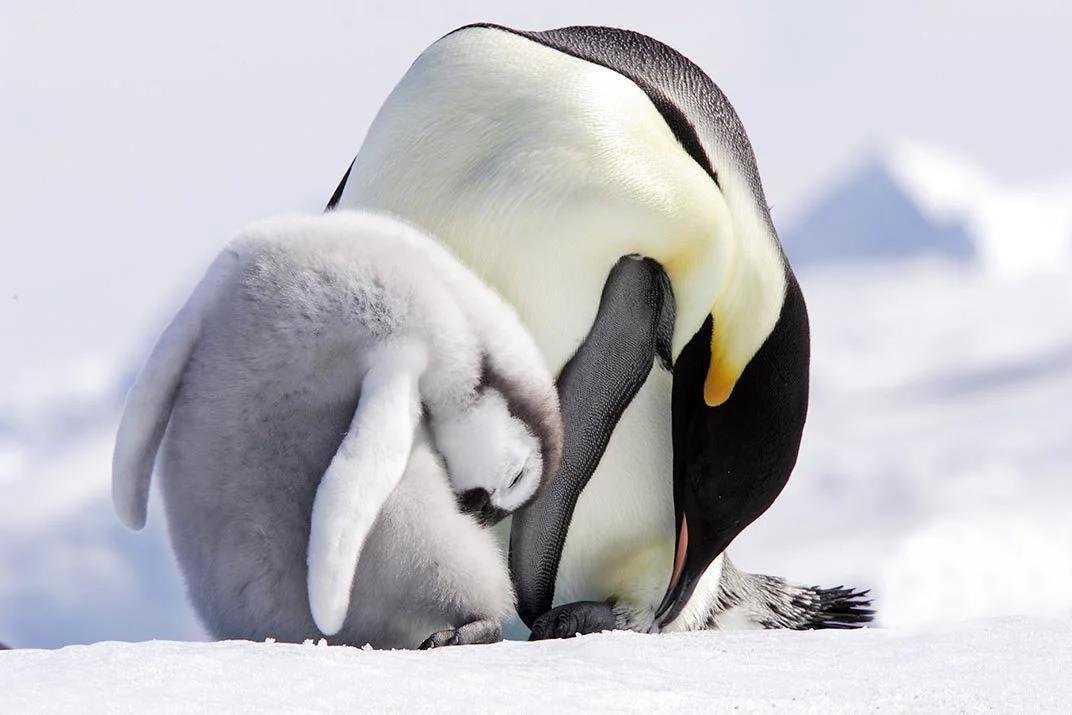Penguin: (329, 23, 873, 638), (113, 211, 563, 645)
